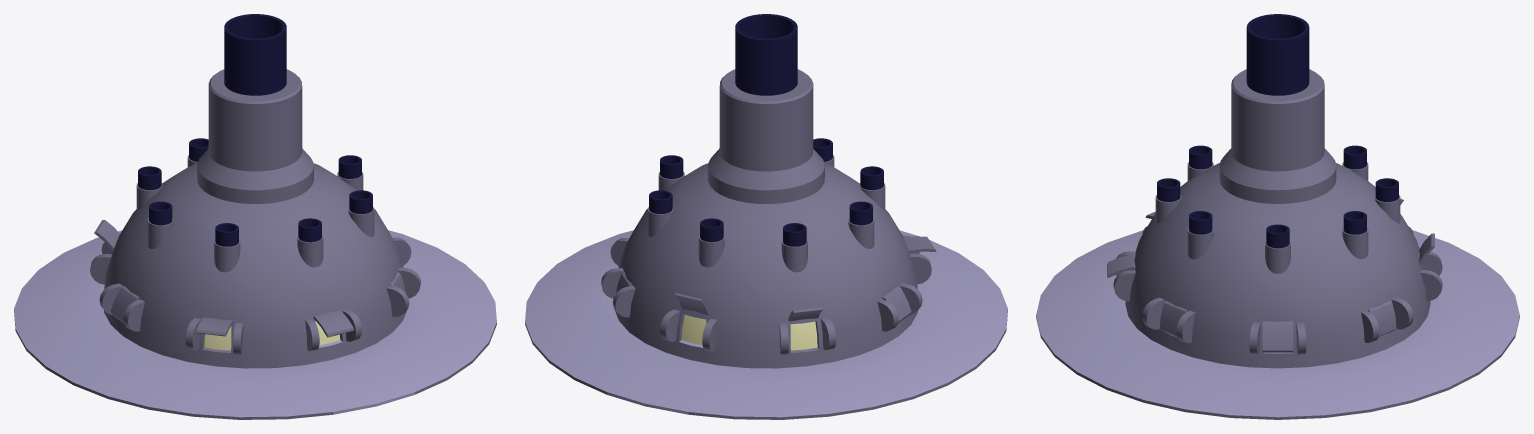
The model's file is Furnace Monument.fbx.
3 renders of one model, left to right at view 1: azimuth 30°, elevation 25°; view 2: azimuth 150°, elevation 25°; view 3: azimuth 270°, elevation 25°, orthographic.
Visible parts, largest first — view 1: Furnace, Chimney, truc sur les bords, Portes, Inside; view 2: Furnace, Chimney, truc sur les bords, Portes, Inside; view 3: Furnace, Chimney, truc sur les bords, Portes.
Boxes of the visible parts, x1,y1,x2,y2 form: Furnace: [14, 14, 496, 419]; Chimney: [136, 138, 374, 272]; truc sur les bords: [90, 237, 420, 355]; Portes: [94, 220, 405, 337]; Inside: [204, 321, 340, 350]; Furnace: [525, 14, 1007, 419]; Chimney: [647, 138, 885, 272]; truc sur les bords: [601, 235, 931, 354]; Portes: [616, 236, 936, 323]; Inside: [681, 314, 817, 350]; Furnace: [1036, 14, 1519, 419]; Chimney: [1155, 145, 1400, 273]; truc sur les bords: [1113, 226, 1442, 354]; Portes: [1107, 198, 1434, 352].
Size of the model in its own units: 31.68 by 21 by 31.68.
